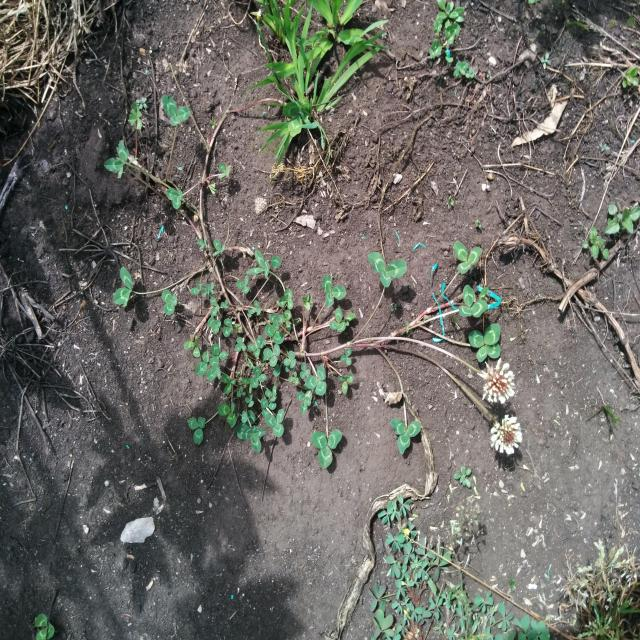Four Leaf Clover: (469, 323, 501, 362)
